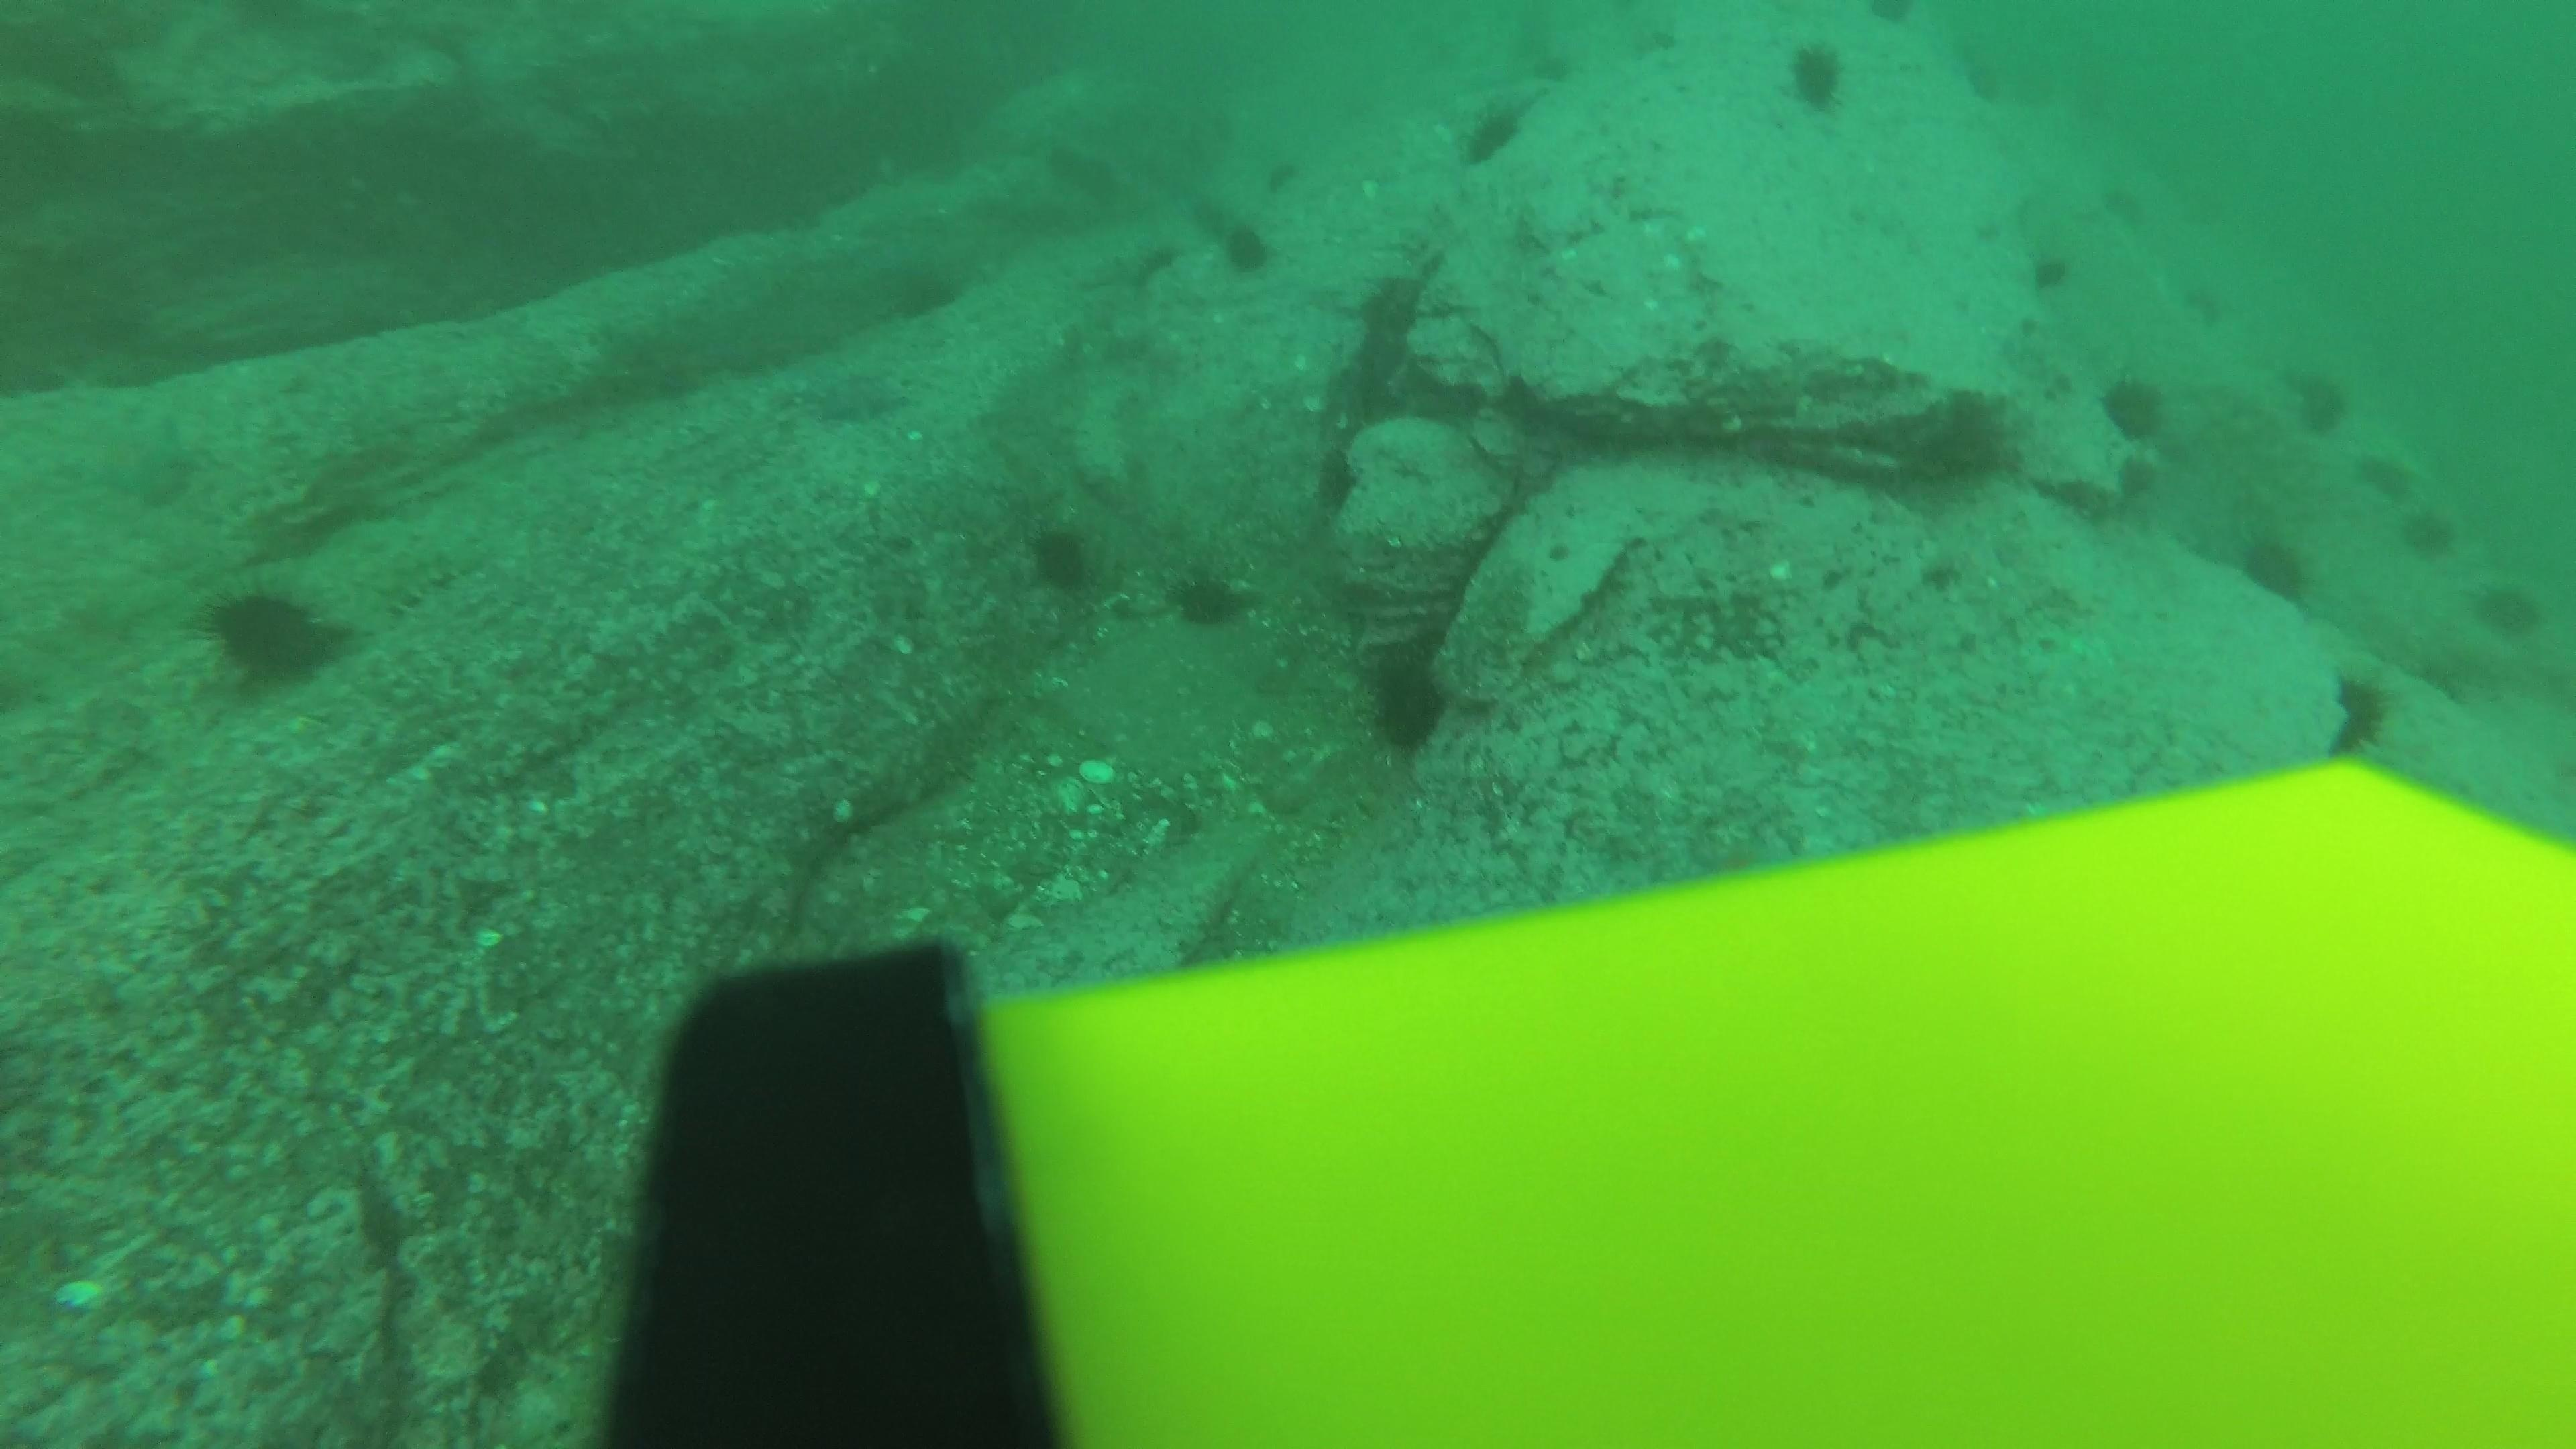echinus: (198, 577, 349, 694), (1897, 386, 2019, 494), (1346, 262, 1440, 382), (1359, 648, 1454, 757), (1019, 517, 1104, 596), (2321, 667, 2397, 755), (2231, 527, 2316, 605), (1164, 559, 1253, 633), (1778, 37, 1854, 117), (1453, 94, 1532, 168), (881, 253, 964, 322), (2097, 370, 2171, 442), (2470, 575, 2548, 644), (2286, 363, 2353, 435), (1306, 439, 1366, 517), (1214, 216, 1276, 280), (2397, 502, 2459, 563), (2024, 244, 2075, 297), (1868, 0, 1928, 30)
holothurian: (327, 531, 483, 640)
starfish: (67, 407, 202, 511), (798, 366, 913, 428)
